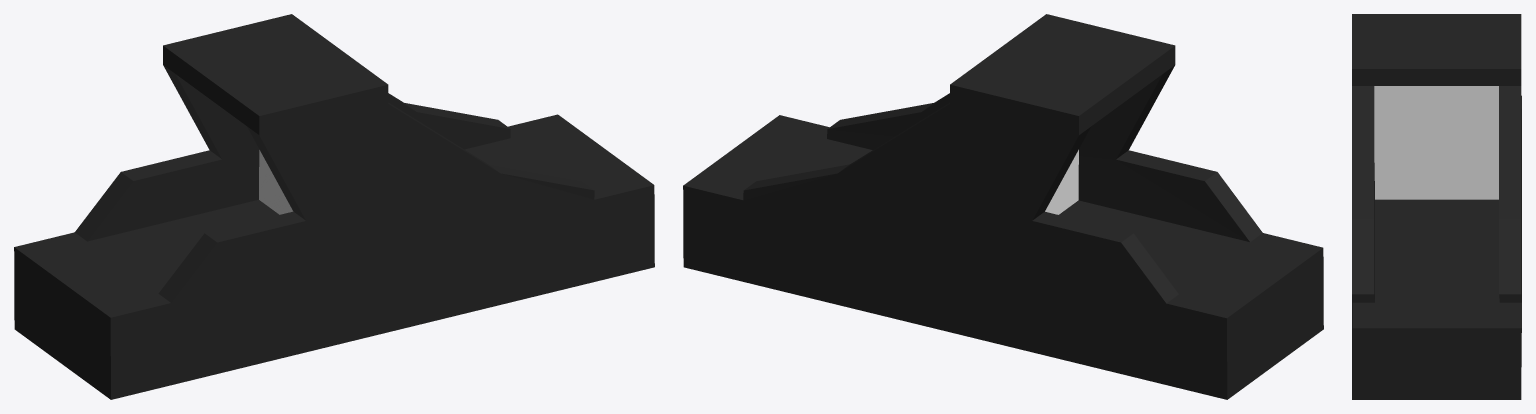
Rendered from Accessories_Red_Dot_A_V3.FBX.
3 views of the same model, side by side, from view 1: azimuth 30°, elevation 25°; view 2: azimuth 150°, elevation 25°; view 3: azimuth 270°, elevation 25° (orthographic). The views are drawn at different scales.
Visible parts, largest first — view 1: Accessories_Red_Dot_A_V3; view 2: Accessories_Red_Dot_A_V3; view 3: Accessories_Red_Dot_A_V3.
Boxes of the visible parts, box(x1,y1,x2,y2) form: Accessories_Red_Dot_A_V3: box(14, 14, 654, 399); Accessories_Red_Dot_A_V3: box(683, 14, 1323, 399); Accessories_Red_Dot_A_V3: box(1352, 14, 1521, 399).
Bounding box in the file's own units: 38.85 × 16.91 × 11.99.
